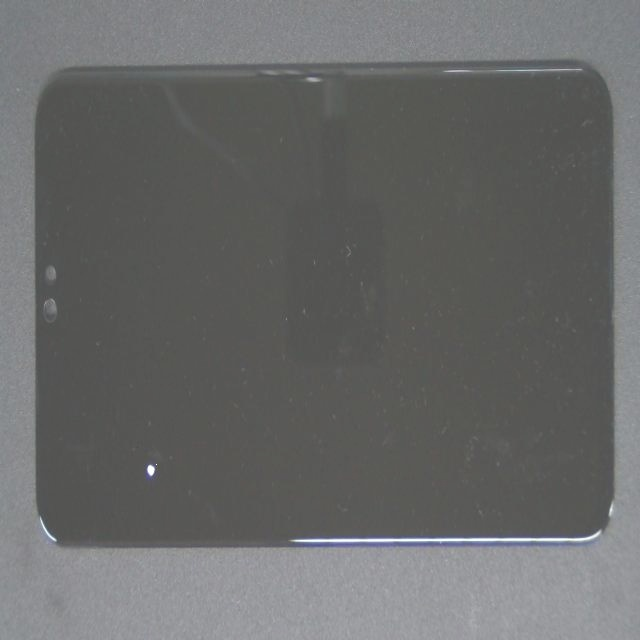stain: (63, 212, 207, 640)
